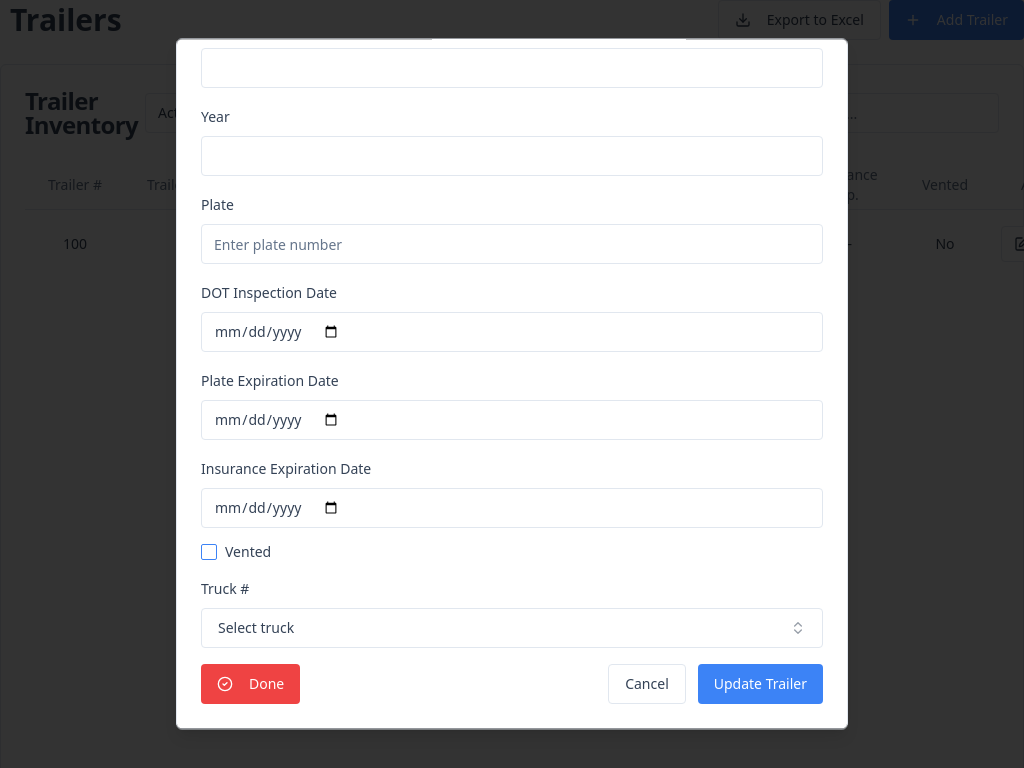
it: does not mark a trailer inactive when detaching it from a truck fails
Earlier steps of the test are not shown.
Later steps or results of the test are not shown.
(page scrolled)
Expected: the button "Update Trailer" is shown, [698, 664, 823, 704]
Click the button "Done" at (251, 684), box [201, 664, 300, 704]
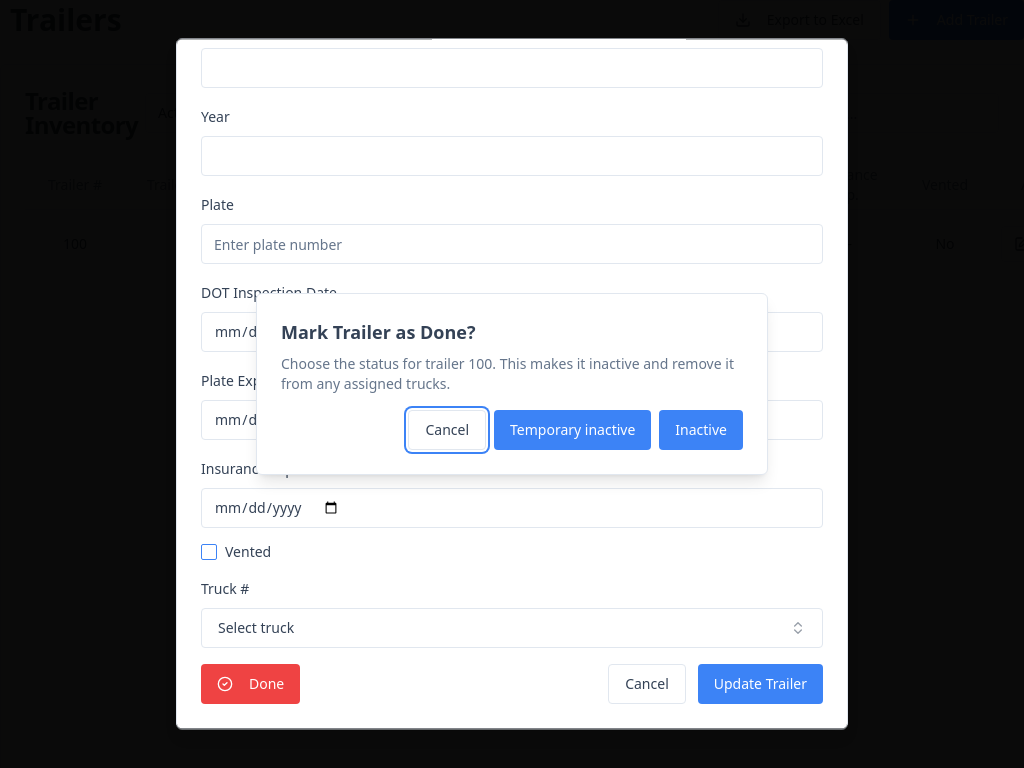
Click the button "Temporary inactive" at (573, 430), box [494, 410, 651, 450]
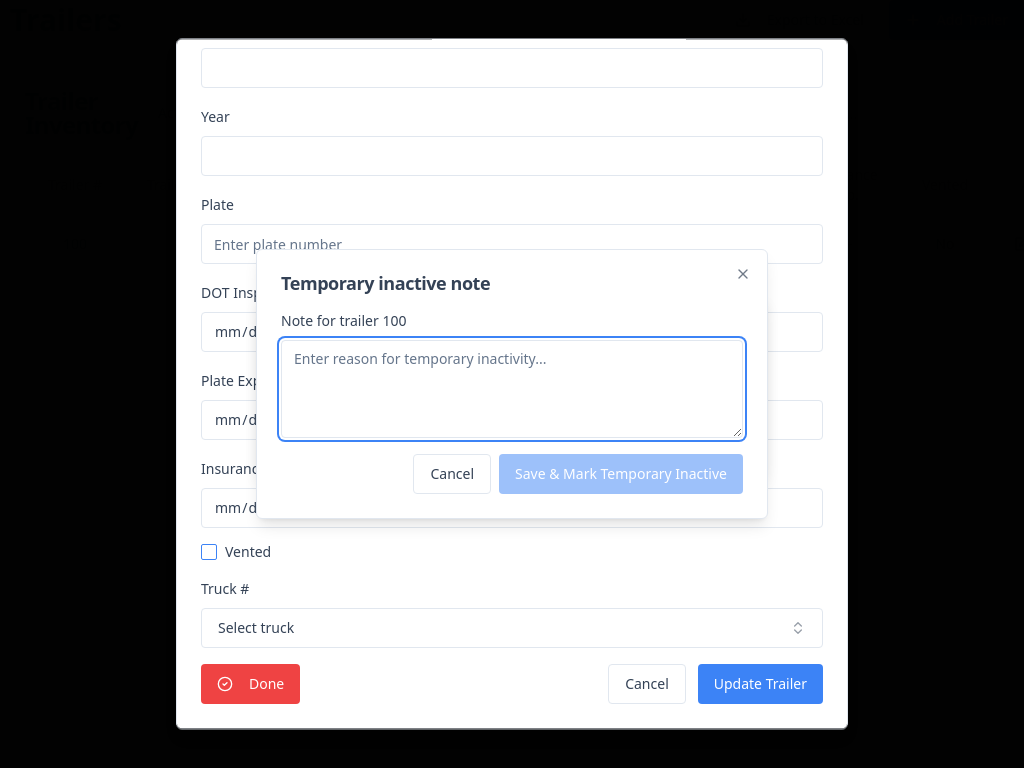
Now the button "Save & Mark Temporary Inactive" is disabled, box [499, 454, 743, 494]
